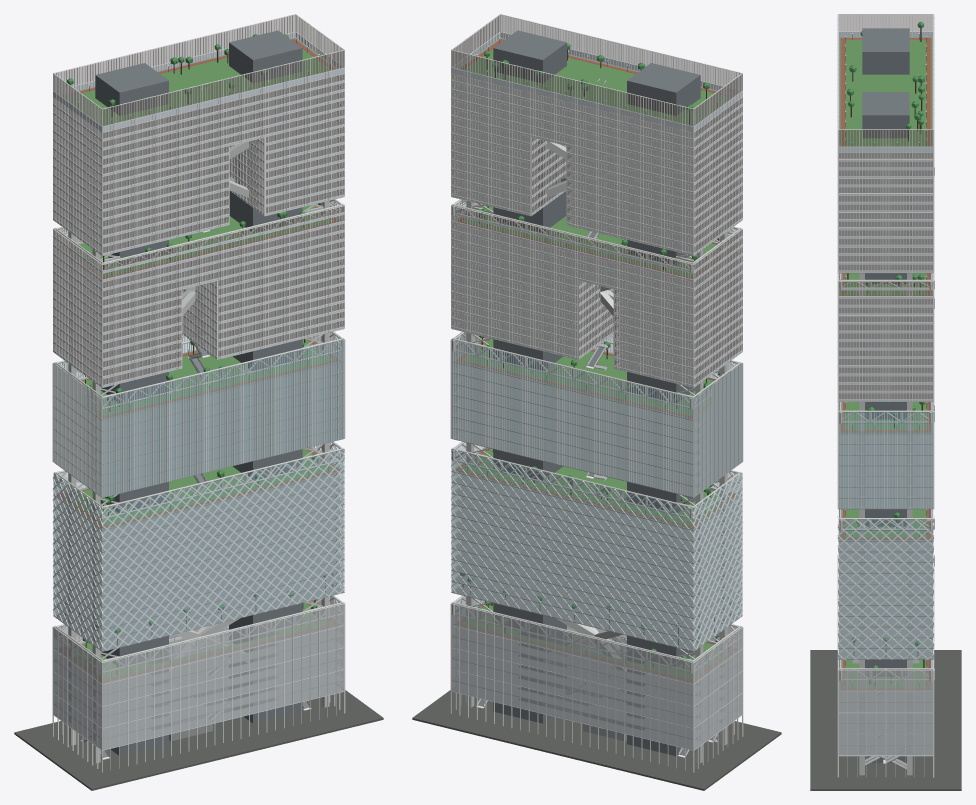
The model's file is the_stack.glb.
3 views of the same model, side by side, from view 1: azimuth 30°, elevation 25°; view 2: azimuth 150°, elevation 25°; view 3: azimuth 270°, elevation 25° (orthographic). The views are drawn at different scales.
Visible parts, largest first — view 1: Web_Stack_Slabs, Web_Stack_Apartment_Frame, Web_Stack_Glass_Cool_Web, Web_Stack_Glass_Dark_Web, Web_Stack_Glass_Frost_Web, Web_Stack_Fin, Web_Stack_Spandrel_Blue, Web_Stack_Frame, Web_Stack_Core, Web_Stack_Lawn, Web_Stack_Core_Steel, Ground_Site (+2 smaller); view 2: Web_Stack_Slabs, Web_Stack_Apartment_Frame, Web_Stack_Glass_Cool_Web, Web_Stack_Glass_Dark_Web, Web_Stack_Glass_Frost_Web, Web_Stack_Fin, Web_Stack_Spandrel_Blue, Web_Stack_Frame, Web_Stack_Core, Web_Stack_Lawn, Web_Stack_Core_Steel, Ground_Site (+2 smaller); view 3: Web_Stack_Slabs, Web_Stack_Glass_Cool_Web, Web_Stack_Glass_Dark_Web, Web_Stack_Apartment_Frame, Ground_Site, Web_Stack_Lawn, Web_Stack_Glass_Frost_Web, Web_Stack_Core_Steel, Web_Stack_Spandrel_Blue, Web_Stack_Core, Web_Stack_Frame, Web_Stack_Fin (+3 smaller).
Boxes of the visible parts, bbox=[...] form: Web_Stack_Slabs: bbox=[53, 37, 344, 749]; Web_Stack_Apartment_Frame: bbox=[52, 14, 345, 772]; Web_Stack_Glass_Cool_Web: bbox=[53, 332, 344, 650]; Web_Stack_Glass_Dark_Web: bbox=[53, 15, 343, 384]; Web_Stack_Glass_Frost_Web: bbox=[53, 596, 344, 749]; Web_Stack_Fin: bbox=[52, 332, 345, 497]; Web_Stack_Spandrel_Blue: bbox=[53, 32, 344, 387]; Web_Stack_Frame: bbox=[52, 86, 344, 759]; Web_Stack_Core: bbox=[83, 30, 309, 757]; Web_Stack_Lawn: bbox=[57, 38, 341, 682]; Web_Stack_Core_Steel: bbox=[54, 110, 344, 763]; Ground_Site: bbox=[14, 687, 383, 790]; Web_Stack_Slabs: bbox=[451, 37, 742, 749]; Web_Stack_Apartment_Frame: bbox=[450, 14, 743, 772]; Web_Stack_Glass_Cool_Web: bbox=[451, 332, 742, 650]; Web_Stack_Glass_Dark_Web: bbox=[452, 15, 742, 384]; Web_Stack_Glass_Frost_Web: bbox=[451, 596, 742, 749]; Web_Stack_Fin: bbox=[450, 332, 743, 497]; Web_Stack_Spandrel_Blue: bbox=[451, 32, 742, 387]; Web_Stack_Frame: bbox=[451, 78, 743, 757]; Web_Stack_Core: bbox=[477, 30, 721, 755]; Web_Stack_Lawn: bbox=[454, 38, 738, 682]; Web_Stack_Core_Steel: bbox=[451, 110, 741, 763]; Ground_Site: bbox=[412, 687, 781, 790]; Web_Stack_Slabs: bbox=[838, 37, 933, 755]; Web_Stack_Glass_Cool_Web: bbox=[838, 412, 933, 658]; Web_Stack_Glass_Dark_Web: bbox=[839, 14, 932, 399]; Web_Stack_Apartment_Frame: bbox=[837, 14, 934, 777]; Ground_Site: bbox=[810, 650, 961, 790]; Web_Stack_Lawn: bbox=[840, 37, 931, 689]; Web_Stack_Glass_Frost_Web: bbox=[838, 659, 933, 755]; Web_Stack_Core_Steel: bbox=[838, 153, 934, 775]; Web_Stack_Spandrel_Blue: bbox=[839, 32, 932, 401]; Web_Stack_Core: bbox=[862, 28, 909, 770]; Web_Stack_Frame: bbox=[837, 91, 934, 769]; Web_Stack_Fin: bbox=[837, 402, 934, 509].
Bounding box in the file's own units: 139 × 303 × 64.
